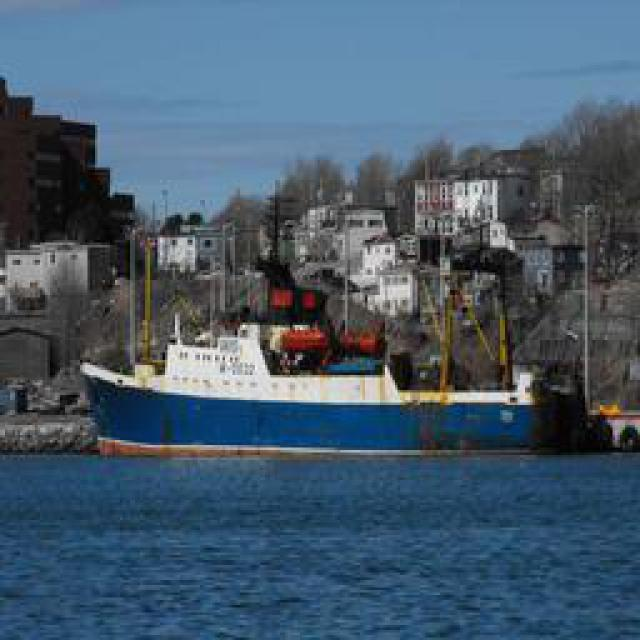Ship: (87, 271, 597, 456)
